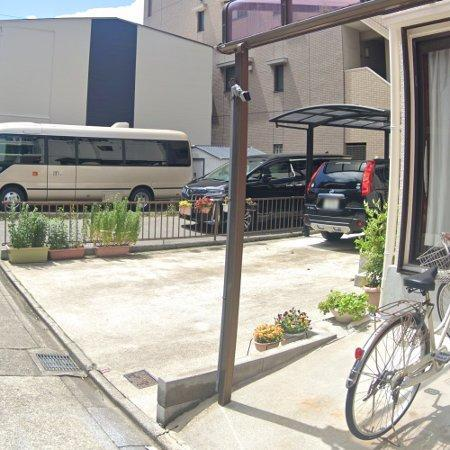bicycles: (347, 234, 450, 441)
